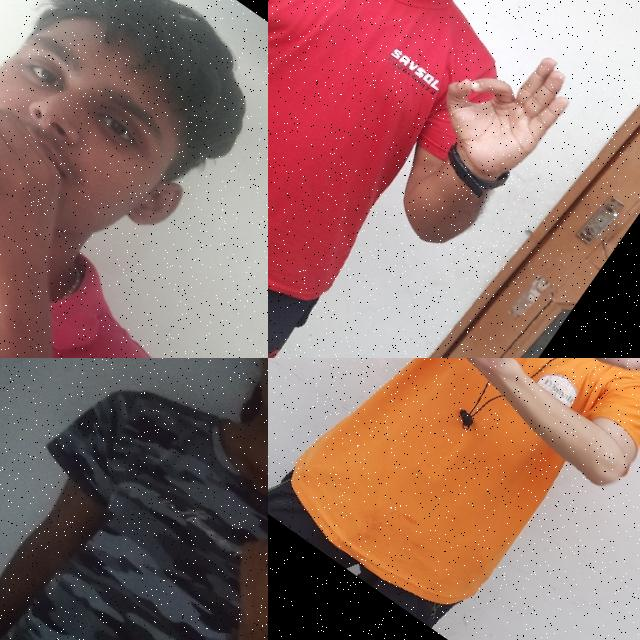Dulya: (192, 491, 268, 640)
Fist Mouth: (0, 0, 268, 358)
Moutza: (361, 358, 577, 404)
Okay: (404, 3, 598, 207)
